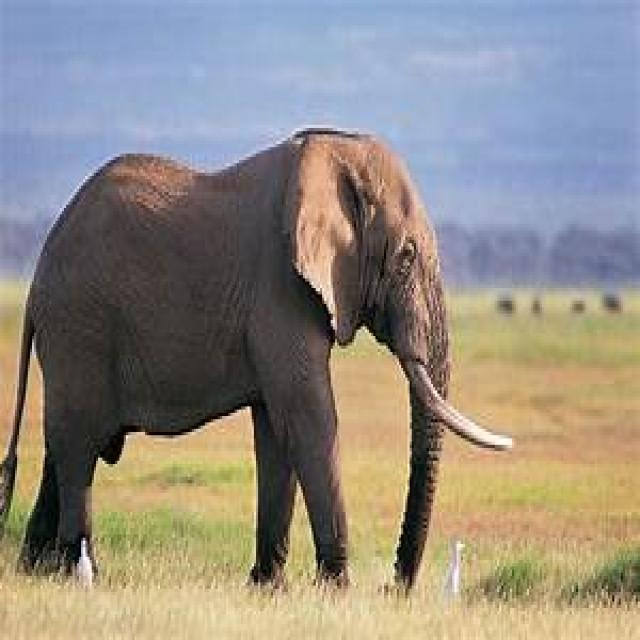elephant: (0, 128, 514, 595)
